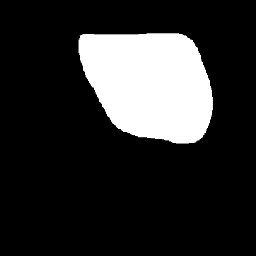mass: (77, 33, 208, 149)
